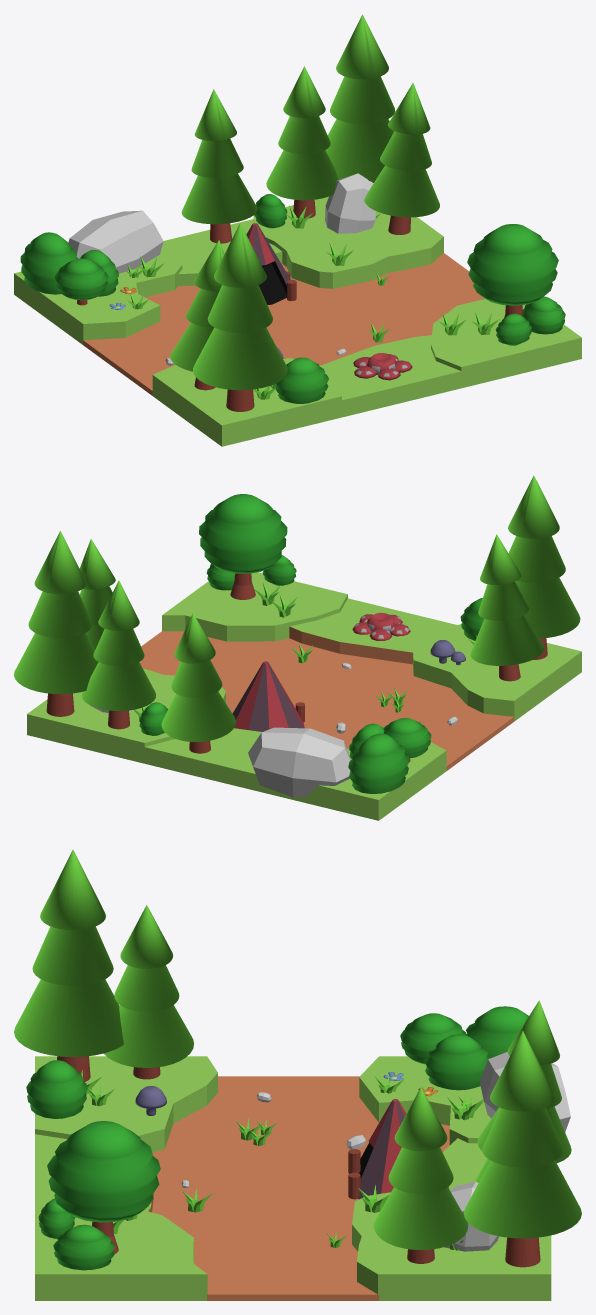
The model's file is jungle level set - 2 Way (6).fbx.
The picture shows the model from 3 angles, top to bottom: view 1: azimuth 30°, elevation 25°; view 2: azimuth 150°, elevation 25°; view 3: azimuth 270°, elevation 25°; orthographic projection. The views are drawn at different scales.
Parts seen in each view (by area): view 1: land_platform, tree_006, tree_001, tree_002, tree_007, tree, tree_003, stone, tree_005, stone_001, bush_003, camp (+7 smaller); view 2: land_platform, tree_001, tree_006, tree_003, tree, tree_005, tree_007, stone, camp, bush_003, tree_002, tree_004 (+6 smaller); view 3: land_platform, tree_001, tree_006, tree_002, tree_003, tree_005, camp, bush_005, bush_001, tree_007, bush, bush_003 (+5 smaller).
Boxes of the visible parts, bbox=[...] form: land_platform: bbox=[14, 196, 581, 446]; tree_006: bbox=[193, 223, 287, 411]; tree_001: bbox=[325, 14, 395, 182]; tree_002: bbox=[364, 83, 439, 234]; tree_007: bbox=[181, 89, 257, 243]; tree: bbox=[266, 66, 339, 218]; tree_003: bbox=[467, 224, 558, 317]; stone: bbox=[68, 210, 163, 273]; tree_005: bbox=[170, 240, 224, 390]; stone_001: bbox=[325, 173, 375, 233]; bush_003: bbox=[20, 232, 77, 294]; camp: bbox=[246, 223, 296, 304]; land_platform: bbox=[27, 572, 581, 820]; tree_001: bbox=[14, 531, 98, 716]; tree_006: bbox=[508, 475, 580, 659]; tree_003: bbox=[199, 494, 287, 599]; tree: bbox=[81, 580, 155, 729]; tree_005: bbox=[470, 534, 544, 681]; tree_007: bbox=[161, 613, 235, 753]; stone: bbox=[248, 727, 350, 797]; camp: bbox=[232, 661, 304, 731]; bush_003: bbox=[348, 733, 409, 793]; tree_002: bbox=[79, 539, 115, 649]; tree_004: bbox=[383, 718, 431, 762]; land_platform: bbox=[35, 1056, 551, 1300]; tree_001: bbox=[464, 1031, 581, 1267]; tree_006: bbox=[14, 849, 123, 1081]; tree_002: bbox=[373, 1087, 468, 1263]; tree_003: bbox=[47, 1121, 160, 1254]; tree_005: bbox=[103, 905, 193, 1079]; camp: bbox=[348, 1099, 406, 1199]; bush_005: bbox=[26, 1060, 87, 1118]; bush_001: bbox=[424, 1034, 490, 1090]; tree_007: bbox=[477, 1000, 571, 1162]; bush: bbox=[53, 1224, 115, 1270]; bush_003: bbox=[466, 1006, 528, 1058].
Bounding box in the file's own units: 16.26 × 8.53 × 16.7.
